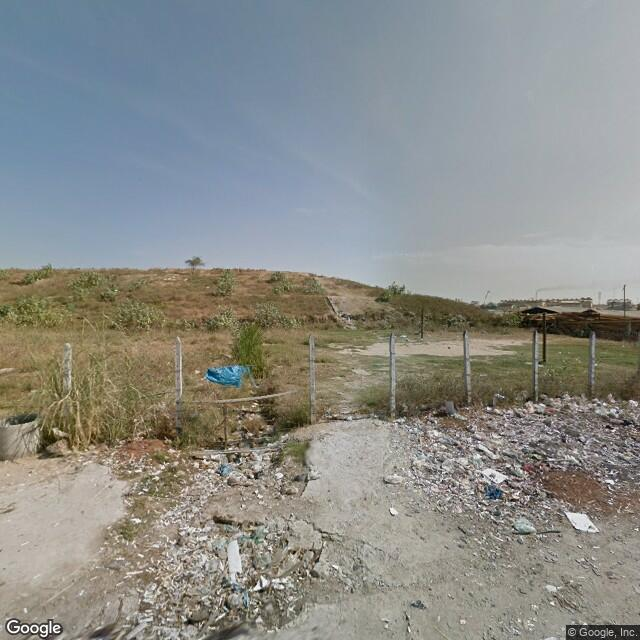litter: (217, 540, 251, 588), (565, 504, 604, 540), (198, 363, 252, 388), (479, 463, 521, 486), (421, 398, 464, 414), (211, 461, 245, 481), (513, 515, 539, 537), (479, 479, 509, 496), (489, 386, 511, 405)
